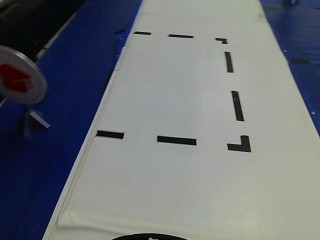school: (0, 45, 46, 112)
